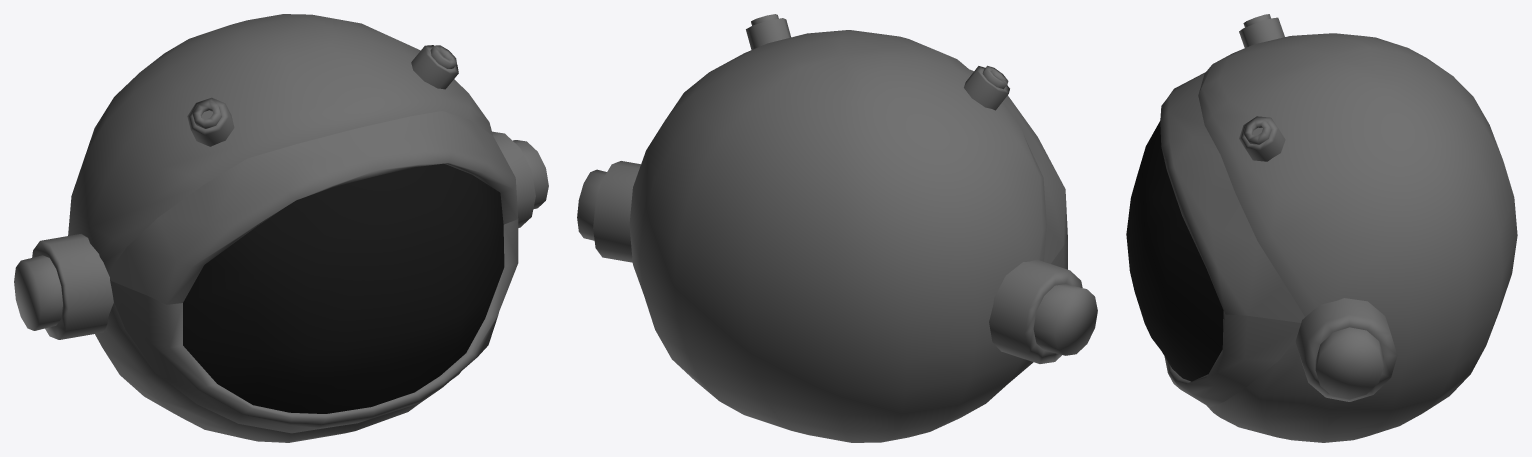
The model's file is Astronaut_low.fbx.
The picture shows the model from 3 angles, left to right: view 1: azimuth 30°, elevation 25°; view 2: azimuth 150°, elevation 25°; view 3: azimuth 270°, elevation 25°; orthographic projection. The views are drawn at different scales.
Visible parts, largest first — view 1: Astronaut_low; view 2: Astronaut_low; view 3: Astronaut_low.
Boxes of the visible parts, bbox=[...] form: Astronaut_low: bbox=[14, 14, 548, 442]; Astronaut_low: bbox=[577, 14, 1097, 442]; Astronaut_low: bbox=[1126, 14, 1517, 442].
Bounding box in the file's own units: 112 × 79.83 × 78.53.
